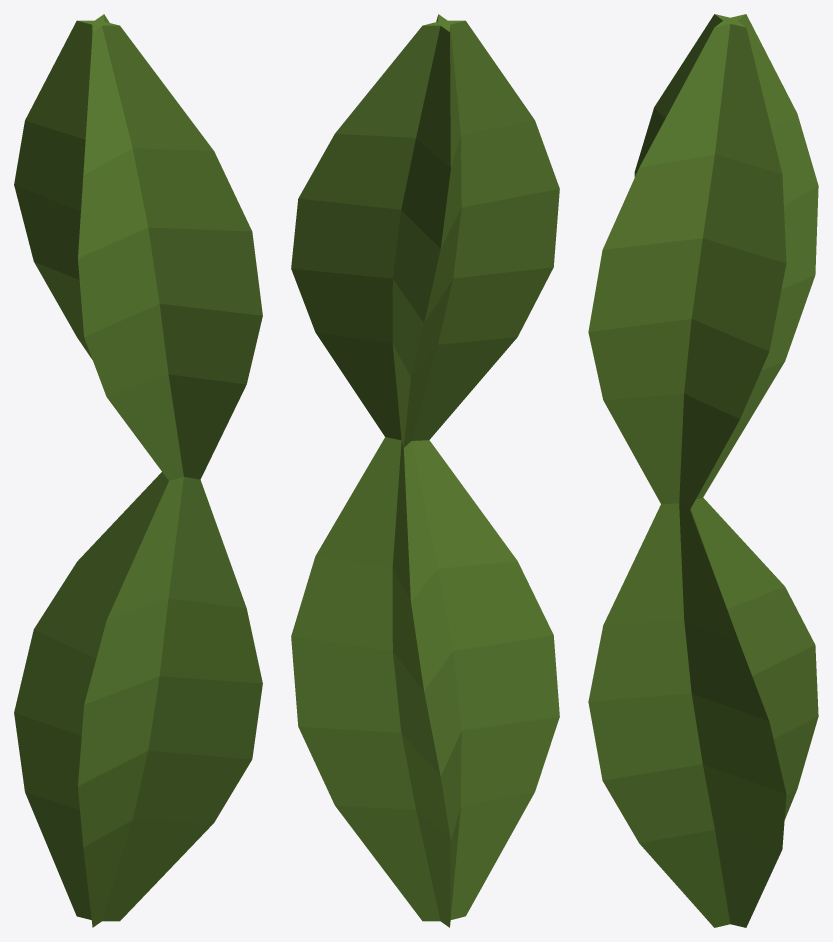
File: Cactus_14.fbx
The picture shows the model from 3 angles, left to right: view 1: azimuth 30°, elevation 25°; view 2: azimuth 150°, elevation 25°; view 3: azimuth 270°, elevation 25°; orthographic projection.
Parts seen in each view (by area): view 1: Cactus_14; view 2: Cactus_14; view 3: Cactus_14.
Boxes of the visible parts, x1,y1,x2,y2 form: Cactus_14: (14, 14, 262, 927); Cactus_14: (291, 14, 559, 927); Cactus_14: (588, 14, 818, 927).
Size of the model in its own units: 15.9 by 15.63 by 67.47.
